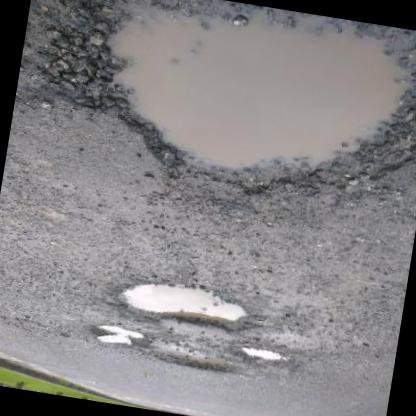pothole: (34, 0, 416, 227), (110, 276, 261, 338), (148, 346, 244, 378), (90, 322, 148, 354), (235, 344, 294, 370)
